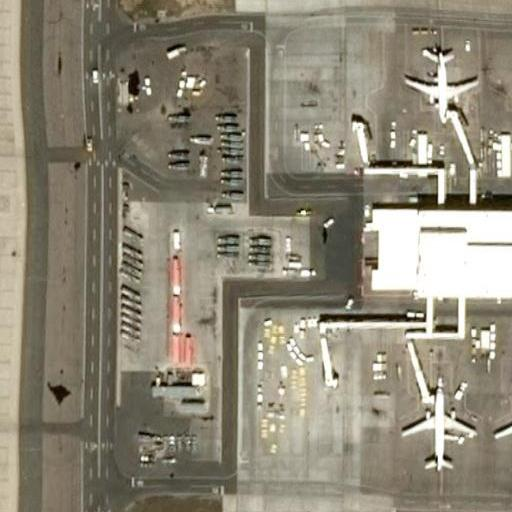Aircraft: (391, 379, 475, 475), (402, 46, 483, 124), (491, 385, 512, 480)
